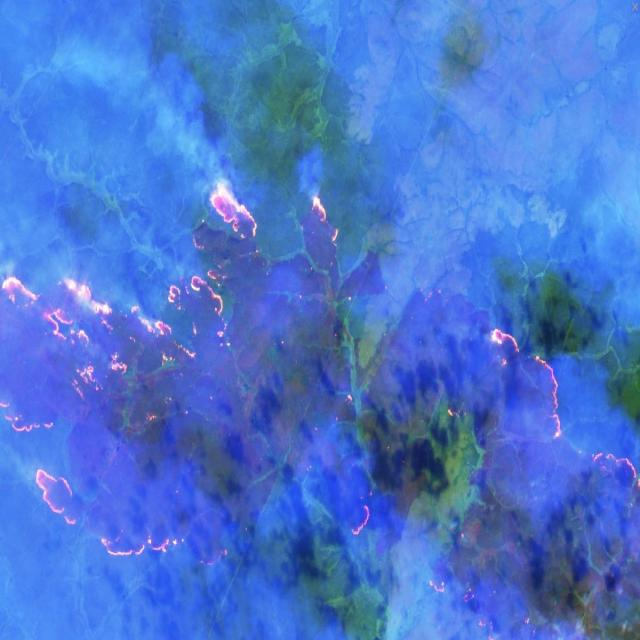fire: (2, 177, 640, 640)
